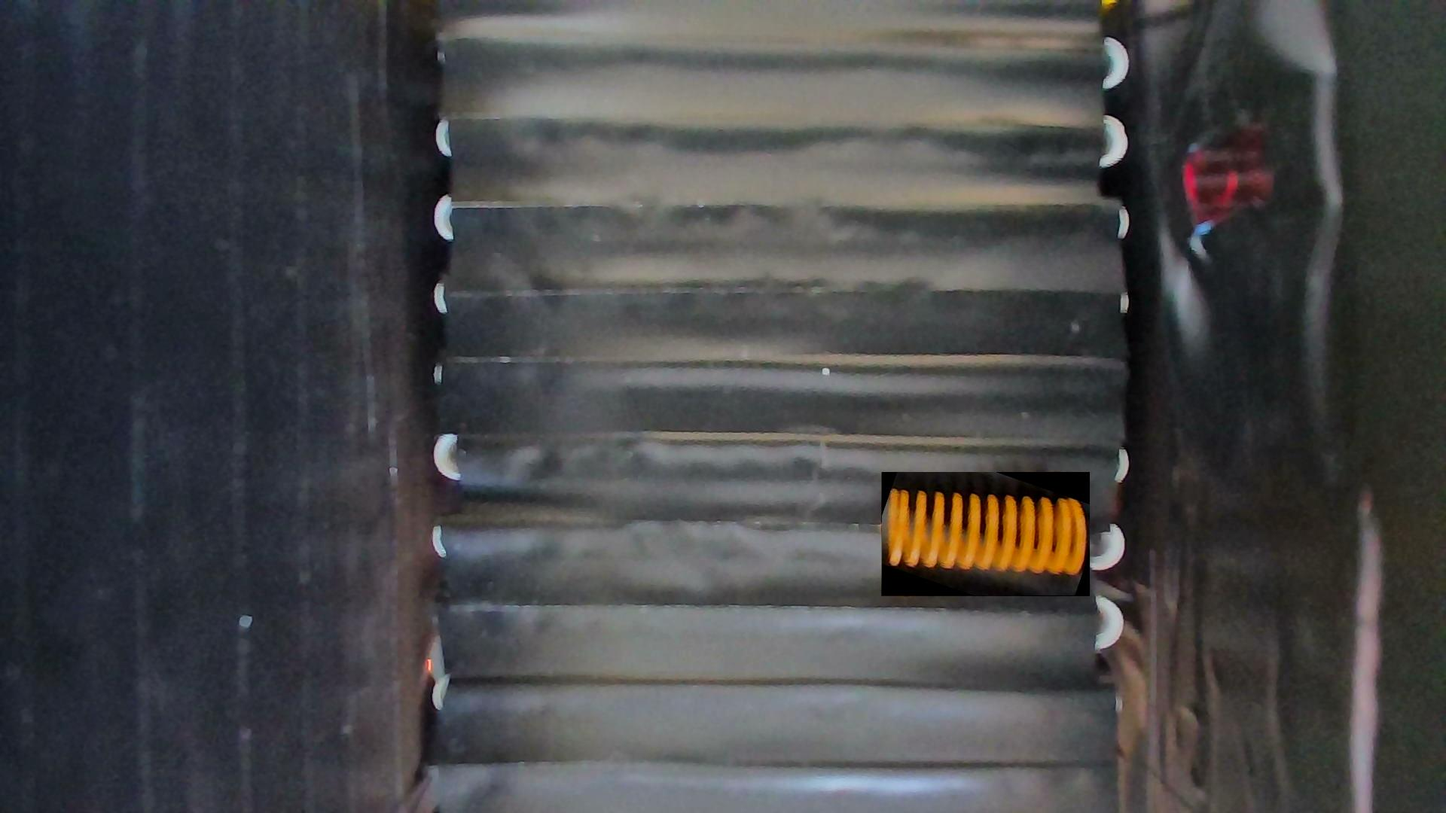spring: (880, 473, 1089, 597)
